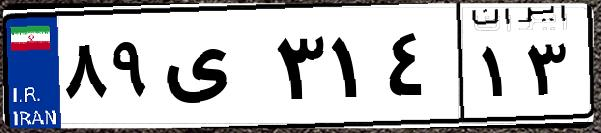1: (330, 28, 385, 110), (475, 38, 525, 113)
3: (270, 28, 330, 110), (525, 38, 570, 115)
4: (385, 28, 445, 110)
8: (57, 26, 110, 100)
9: (110, 28, 158, 98)
ی: (158, 20, 270, 120)
